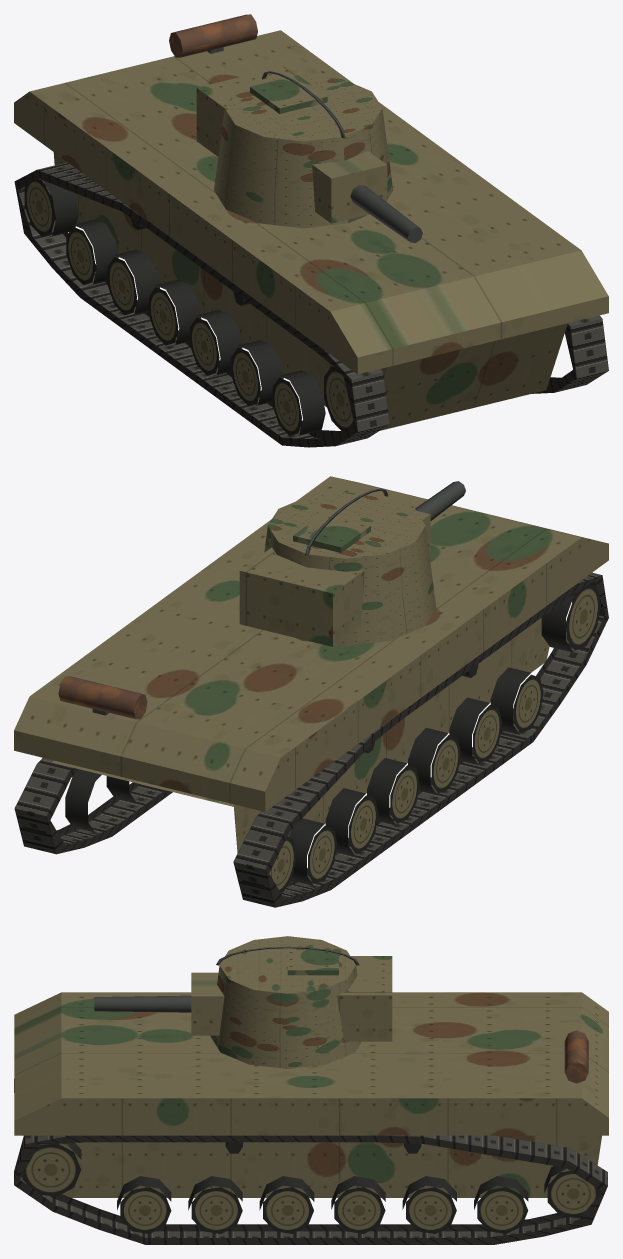
File: armor-2.glb
The picture shows the model from 3 angles, top to bottom: view 1: azimuth 30°, elevation 25°; view 2: azimuth 150°, elevation 25°; view 3: azimuth 270°, elevation 25°; orthographic projection. The views are drawn at different scales.
Visible parts, largest first — view 1: hull, turret, tracks_right, gun, tracks_left, galet_right_6, galet_right_1, galet_right_2, galet_right_4, galet_right_5, galet_right_3, roue_folle_right (+2 smaller); view 2: hull, turret, tracks_right, tracks_left, barbotin_right, galet_right_6, galet_right_2, galet_right_3, galet_right_4, galet_right_5, galet_right_1, hatch (+3 smaller); view 3: hull, turret, tracks_left, gun, barbotin_left, galet_left_4, galet_left_5, galet_left_3, galet_left_1, galet_left_6, galet_left_2, roue_folle_left (+1 smaller).
Part boxes in pixels (x1,y1,x2,y2): hull: [14, 14, 608, 430]; turret: [196, 65, 393, 228]; tracks_right: [14, 162, 389, 447]; gun: [312, 151, 422, 243]; tracks_left: [532, 315, 608, 393]; galet_right_6: [272, 370, 325, 437]; galet_right_1: [66, 219, 118, 286]; galet_right_2: [107, 249, 159, 316]; galet_right_4: [190, 310, 242, 376]; galet_right_5: [231, 340, 283, 406]; galet_right_3: [149, 279, 201, 346]; roue_folle_right: [24, 179, 78, 237]; hull: [14, 476, 608, 852]; turret: [239, 488, 436, 646]; tracks_right: [233, 572, 608, 907]; tracks_left: [14, 758, 172, 854]; barbotin_right: [541, 584, 600, 652]; galet_right_6: [490, 667, 543, 734]; galet_right_2: [325, 788, 378, 855]; galet_right_3: [367, 758, 419, 825]; galet_right_4: [408, 727, 460, 795]; galet_right_5: [449, 697, 502, 764]; galet_right_1: [289, 818, 337, 885]; hatch: [293, 514, 370, 552]; hull: [14, 992, 608, 1197]; turret: [210, 936, 392, 1068]; tracks_left: [14, 1135, 607, 1244]; gun: [94, 972, 224, 1035]; barbotin_left: [22, 1143, 81, 1196]; galet_left_4: [259, 1176, 314, 1233]; galet_left_5: [188, 1176, 242, 1233]; galet_left_3: [331, 1176, 385, 1233]; galet_left_1: [474, 1176, 528, 1233]; galet_left_6: [117, 1176, 171, 1233]; galet_left_2: [402, 1176, 456, 1233]; roue_folle_left: [544, 1166, 600, 1218].
Bounding box in the file's own units: 2.33 × 2.42 × 5.52.
Materials: 5 (5 with a texture image).
